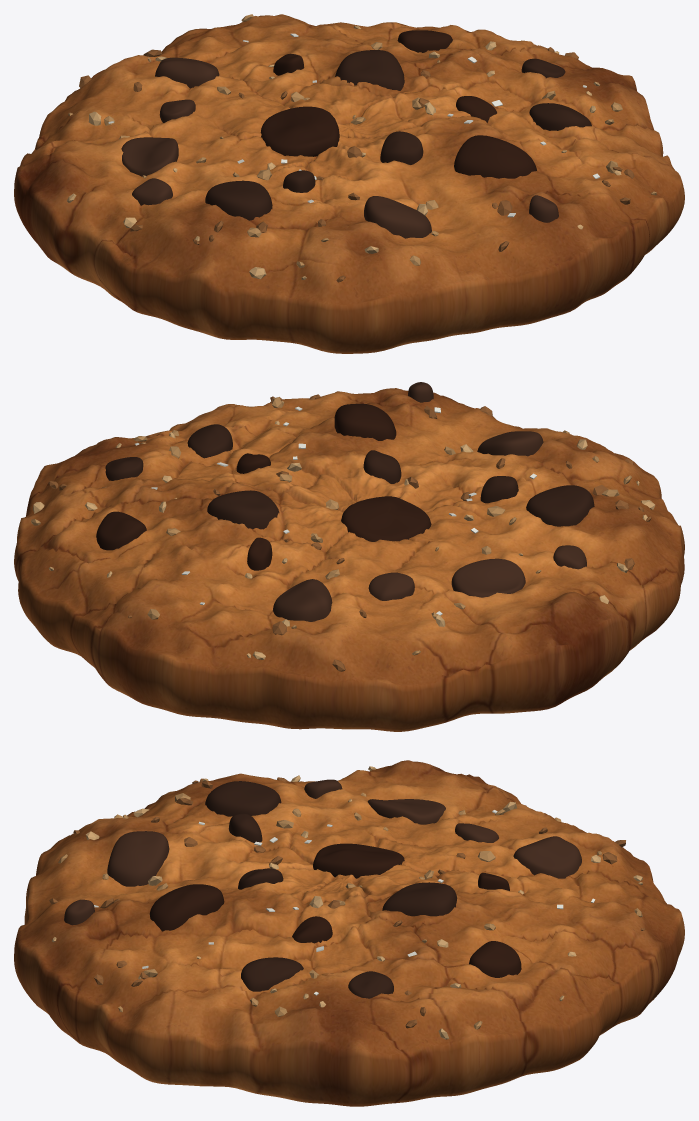
The model's file is smule-cookie-natural.glb.
3 renders of one model, top to bottom at view 1: azimuth 30°, elevation 25°; view 2: azimuth 150°, elevation 25°; view 3: azimuth 270°, elevation 25°, orthographic. The views are drawn at different scales.
Parts seen in each view (by area): view 1: Dough_BakedSurface, Chocolate_Detail, Crumbs_Detail; view 2: Dough_BakedSurface, Chocolate_Detail, Crumbs_Detail; view 3: Dough_BakedSurface, Chocolate_Detail, Crumbs_Detail.
Part boxes in pixels (x1=…): Dough_BakedSurface: x1=14, y1=14, x2=684, y2=353; Chocolate_Detail: x1=121, y1=30, x2=591, y2=238; Crumbs_Detail: x1=67, y1=14, x2=656, y2=282; Dough_BakedSurface: x1=14, y1=388, x2=684, y2=731; Chocolate_Detail: x1=96, y1=382, x2=594, y2=621; Crumbs_Detail: x1=31, y1=394, x2=655, y2=671; Dough_BakedSurface: x1=14, y1=760, x2=684, y2=1106; Chocolate_Detail: x1=64, y1=779, x2=581, y2=998; Crumbs_Detail: x1=49, y1=766, x2=644, y2=1039.
Bounding box in the file's own units: 4.99 × 0.9583 × 4.98.
9 materials, 2 textured.
